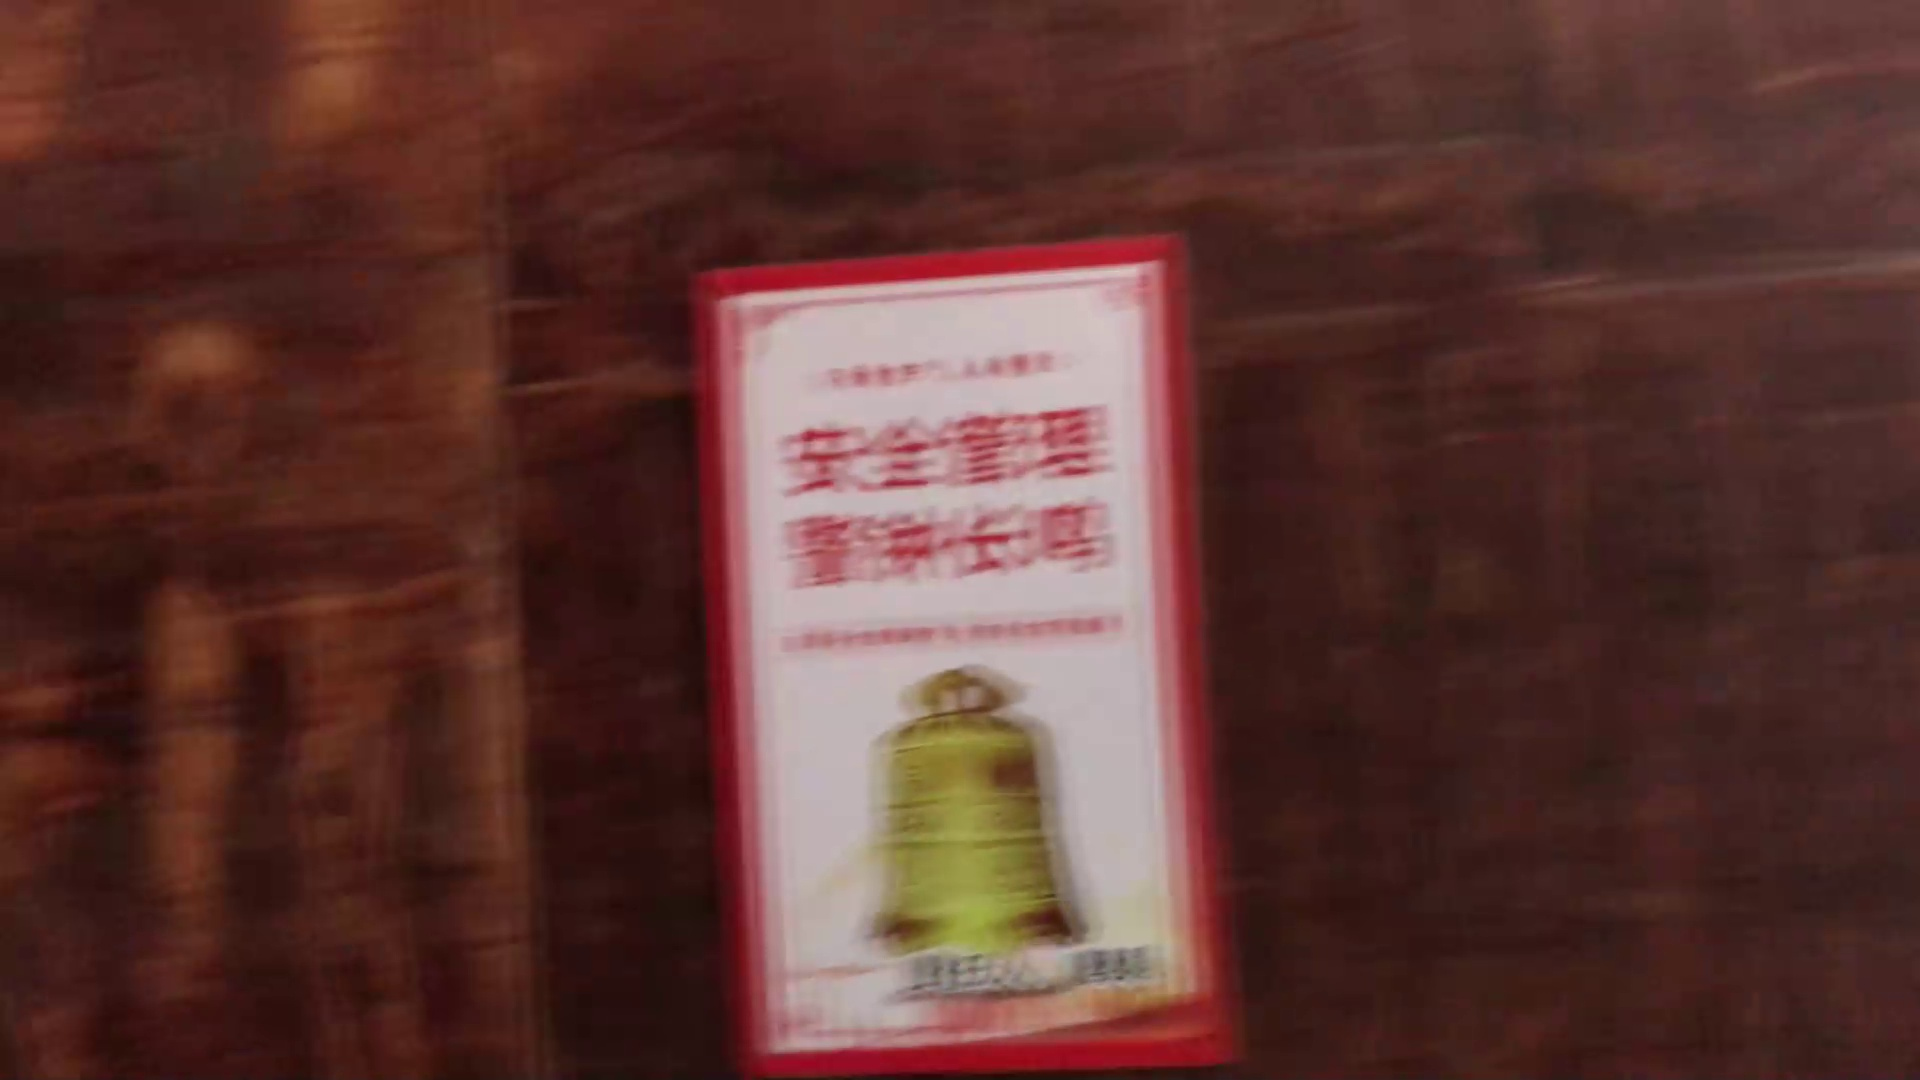slogan: (700, 240, 1246, 1075)
